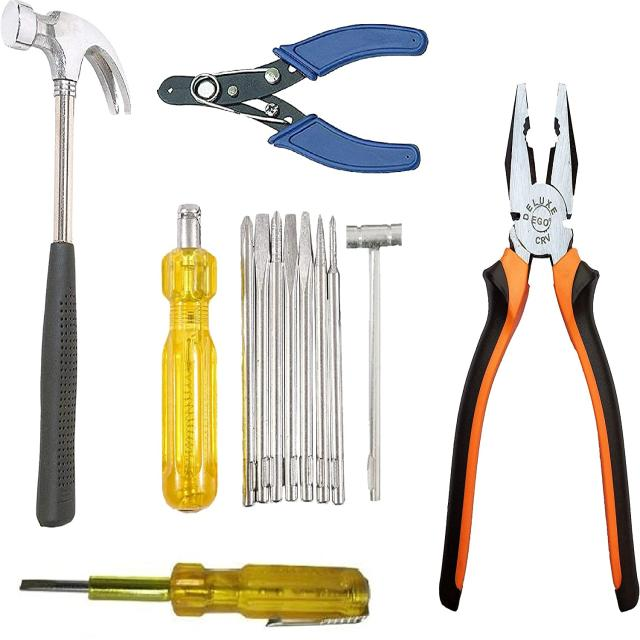Screwdriver: (20, 562, 370, 625), (161, 205, 218, 511)
